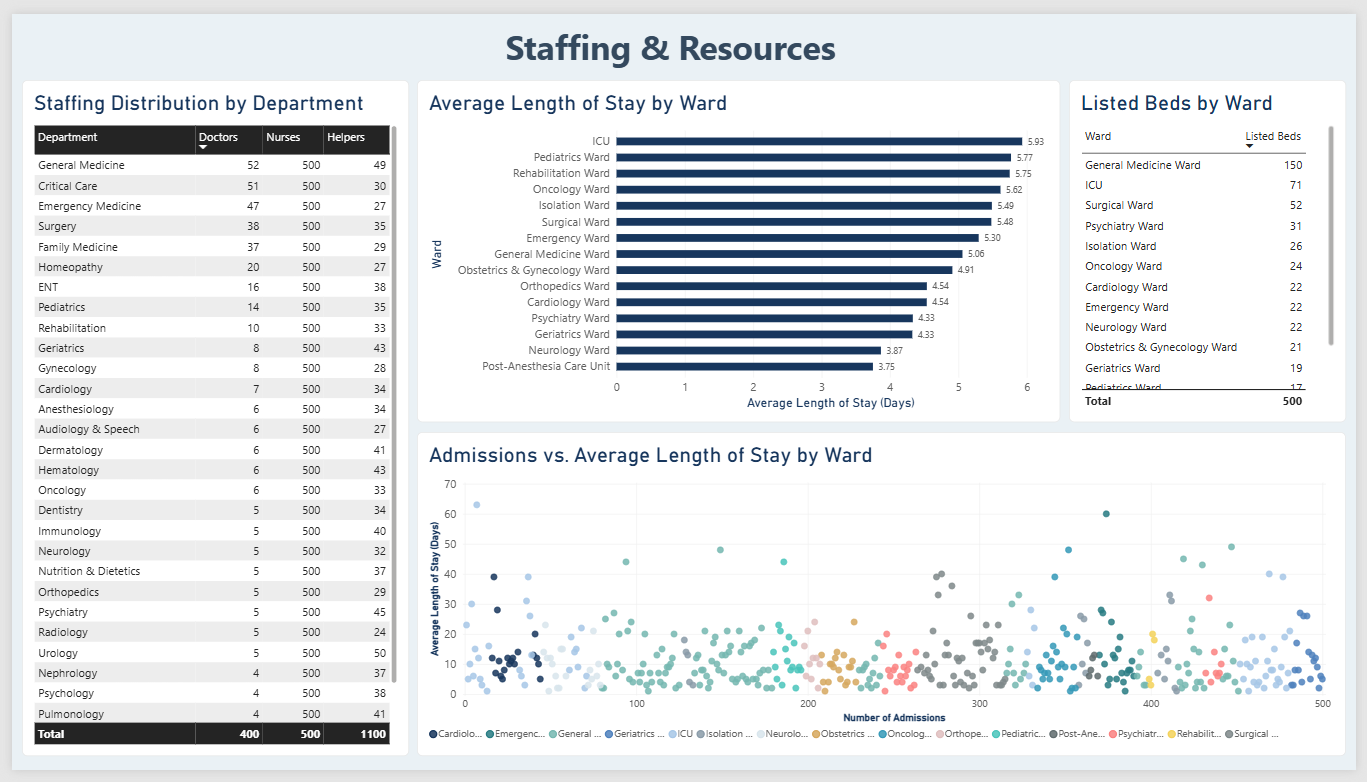

The page's visual inventory and layout, read from the dashboard file:
{"tool":"powerbi","page":{"name":"Staffing & Resources","canvas":[1920,1080],"ordinal":2},"visuals":[{"type":"textbox","box":[14.3,14.3,1852.9,80],"z":0},{"type":"tableEx","title":"Staffing Distribution by Department","fields":{"Values":["Department.dept_Name","CountNonNull(Doctor.doct_Id)","CountNonNull(Nurse.nurse_Id)","CountNonNull(Helpers.helper_Id)"]},"box":[14.3,94.3,552.9,965.7],"z":1},{"type":"clusteredBarChart","title":"Average Length of Stay by Ward","fields":{"Category":["Ward.ward_Name"],"Y":["Avg(BedRecords.Length of Stay (Days))"]},"box":[578.6,94.3,918.6,488.6],"z":2},{"type":"tableEx","title":"Listed Beds by Ward","fields":{"Values":["Ward.ward_Name","Bed.bed_No"]},"box":[1510,94.3,395.7,488.6],"z":3},{"type":"scatterChart","title":"Admissions vs. Average Length of Stay by Ward","fields":{"Series":["Ward.ward_Name"],"X":["Bed.bed_No"],"Y":["Sum(BedRecords.Length of Stay (Days))"]},"box":[578.6,597.1,1327.1,462.9],"z":4}]}

Visuals, with their boxes in screenshot pixels (x1, y1, x2, y2), scaled from the page's 1920x1080 canvas onto the 1367x782 screenshot:
textbox: (left=10, top=10, right=1329, bottom=68)
"Staffing Distribution by Department" tableEx: (left=10, top=68, right=404, bottom=768)
"Average Length of Stay by Ward" clusteredBarChart: (left=412, top=68, right=1066, bottom=422)
"Listed Beds by Ward" tableEx: (left=1075, top=68, right=1357, bottom=422)
"Admissions vs. Average Length of Stay by Ward" scatterChart: (left=412, top=432, right=1357, bottom=768)
